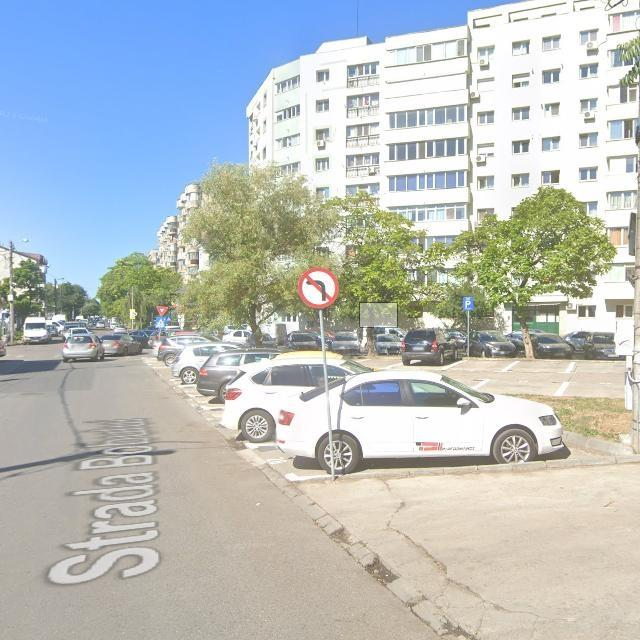info_crosswalk: (156, 316, 167, 329)
prio_give_way: (156, 306, 170, 316)
